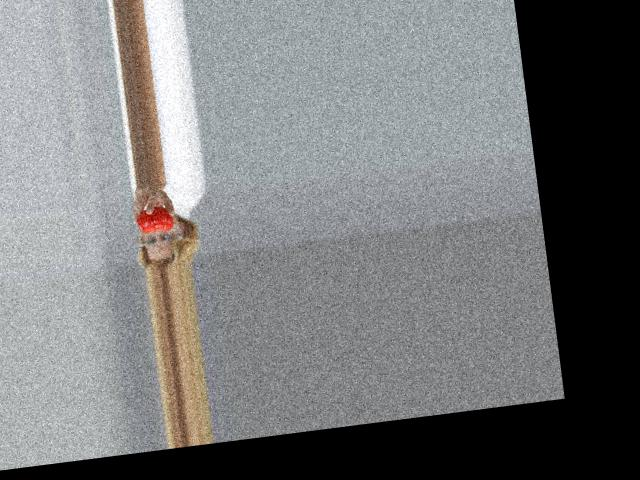tomato: (136, 204, 175, 233)
